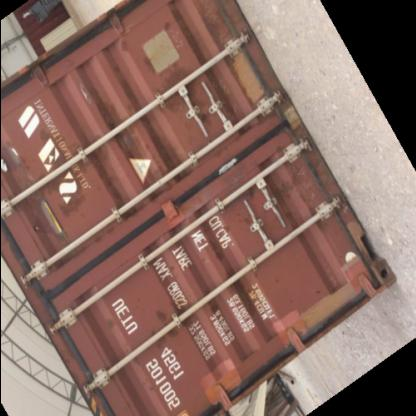Damage: (100, 101, 148, 178), (263, 162, 305, 242), (128, 300, 188, 350), (210, 256, 255, 302), (159, 75, 199, 117)
